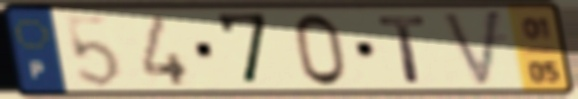0: (292, 11, 350, 88)
4: (138, 12, 192, 88)
5: (61, 13, 125, 89)
7: (212, 11, 272, 89)
T: (375, 14, 432, 85)
V: (438, 7, 506, 91)
